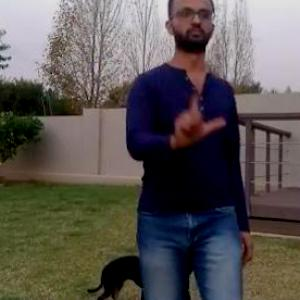land_hand: (168, 86, 228, 144)
